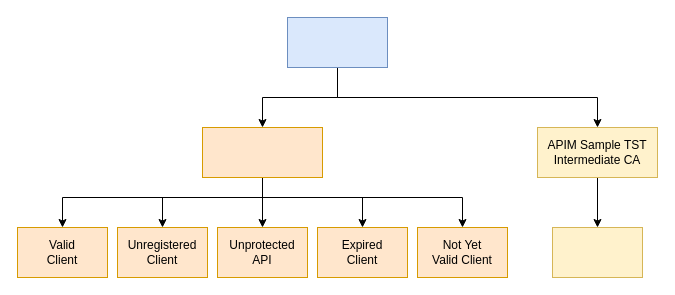
Some shapes in this 675 by 295 pixel diagram are drawn without their labels. The centre of each missing label's shape, as x and y in pixels:
APIM Sample DEV Intermediate CA: pixel 262 152
APIM Sample Root CA: pixel 337 42
Untrusted Client: pixel 597 252
